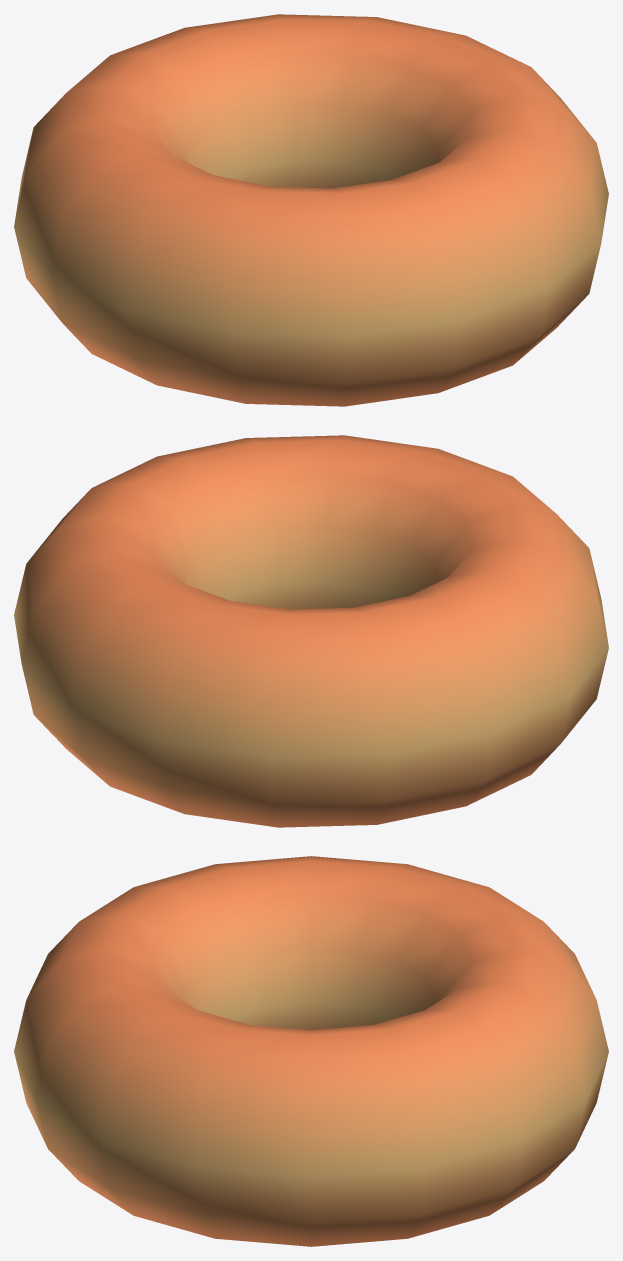
Rendered from Donut_V1_00.fbx.
The picture shows the model from 3 angles, top to bottom: view 1: azimuth 30°, elevation 25°; view 2: azimuth 150°, elevation 25°; view 3: azimuth 270°, elevation 25°; orthographic projection.
Parts seen in each view (by area): view 1: Donut_V1_00; view 2: Donut_V1_00; view 3: Donut_V1_00.
Part boxes in pixels (x1,y1,x2,y2): Donut_V1_00: (14, 14, 608, 406); Donut_V1_00: (14, 435, 608, 827); Donut_V1_00: (14, 856, 608, 1246).
Size of the model in its own units: 40.77 by 15.54 by 40.77.
